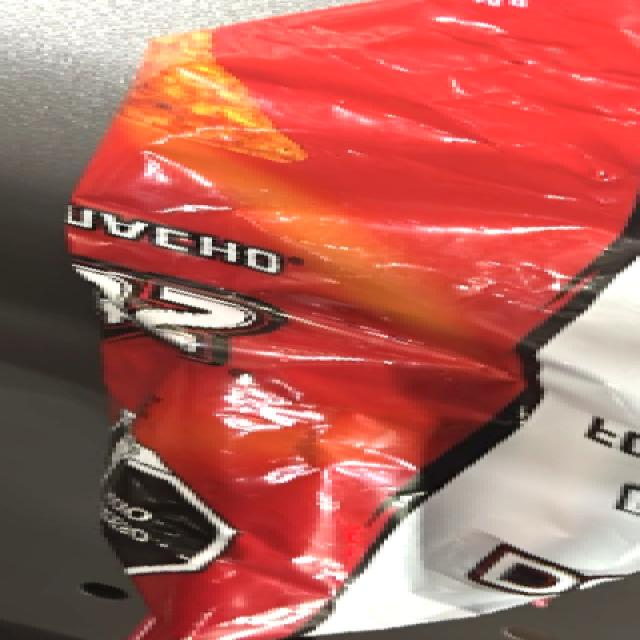doritosNacho: (61, 30, 542, 467)
